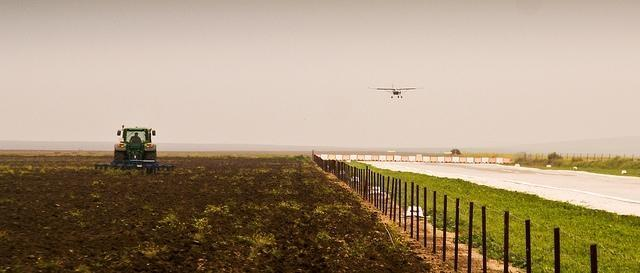truck: (114, 125, 156, 163)
